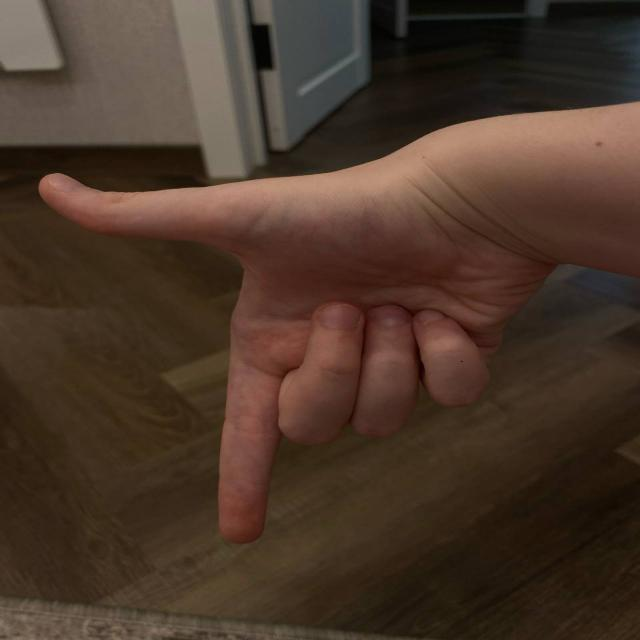g: (47, 140, 529, 553)
